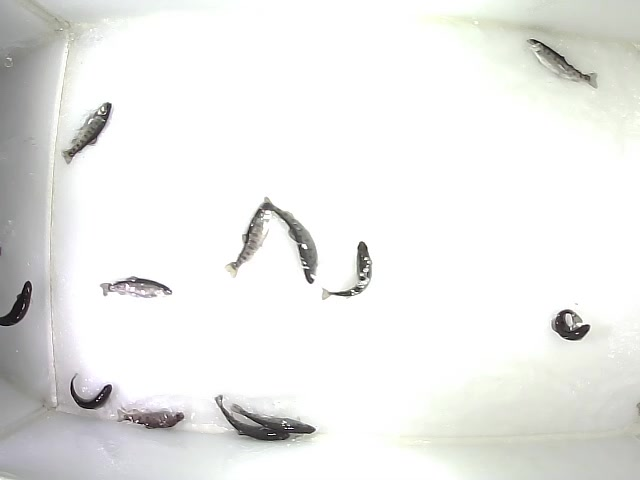fish: (258, 196, 319, 286), (223, 199, 274, 280), (525, 37, 599, 90), (212, 394, 292, 443), (319, 239, 373, 302), (229, 403, 317, 435), (99, 274, 174, 301), (68, 372, 114, 411), (115, 407, 186, 431), (1, 280, 33, 328), (549, 307, 592, 342)
